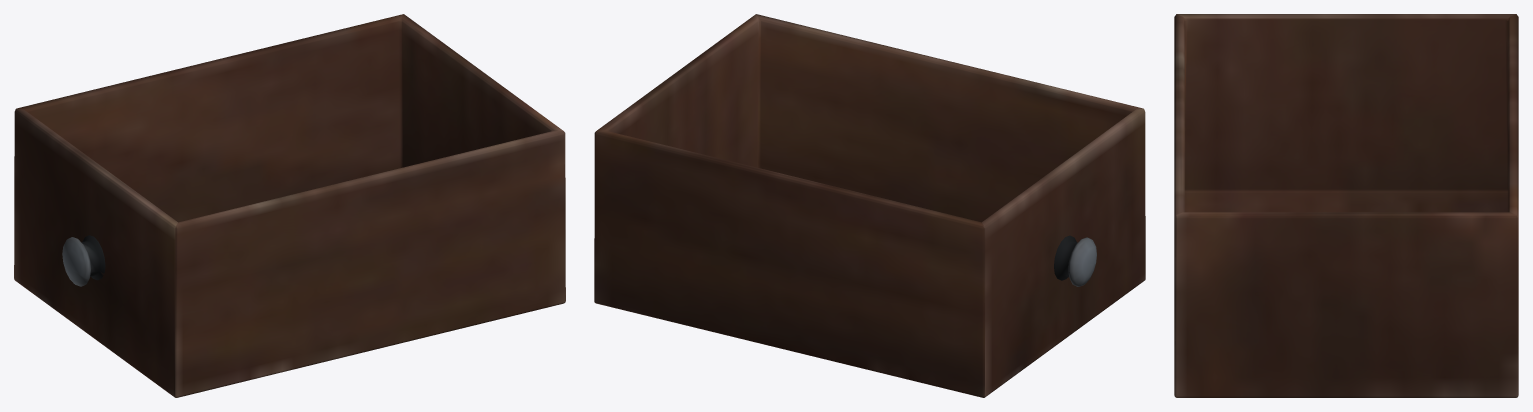
File: SM_Till.fbx
3 renders of one model, left to right at view 1: azimuth 30°, elevation 25°; view 2: azimuth 150°, elevation 25°; view 3: azimuth 270°, elevation 25°, orthographic. The views are drawn at different scales.
Parts seen in each view (by area): view 1: SM_Till_LOD0; view 2: SM_Till_LOD0; view 3: SM_Till_LOD0.
Part boxes in pixels (x1,y1,x2,y2): SM_Till_LOD0: [14, 14, 565, 397]; SM_Till_LOD0: [594, 14, 1145, 397]; SM_Till_LOD0: [1174, 14, 1518, 397].
Size of the model in its own units: 30.01 by 20.27 by 11.88.
Materials: 1 (1 with a texture image).
